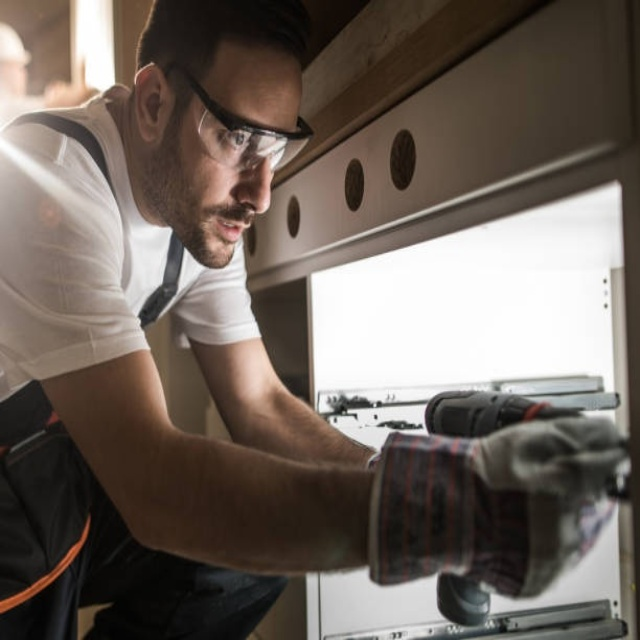Gafas: (166, 64, 310, 171)
Guantes: (364, 416, 629, 603), (425, 389, 612, 438)
Sin_mascara: (202, 207, 251, 273)
